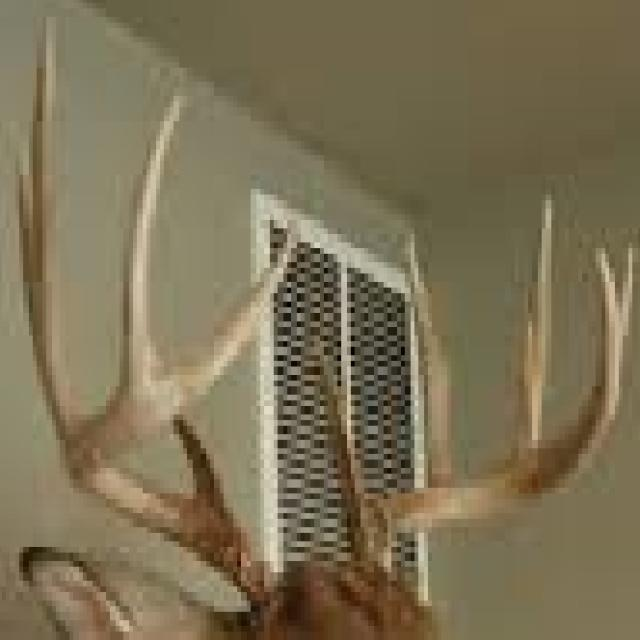L-F: (350, 237, 623, 576)
L-G1: (318, 336, 367, 540)
L-G2: (407, 221, 459, 487)
L-G3: (510, 186, 556, 465)
R-F: (55, 215, 302, 611)
R-G1: (172, 415, 236, 521)
R-G3: (32, 9, 83, 450)
R-G4: (115, 91, 185, 394)
